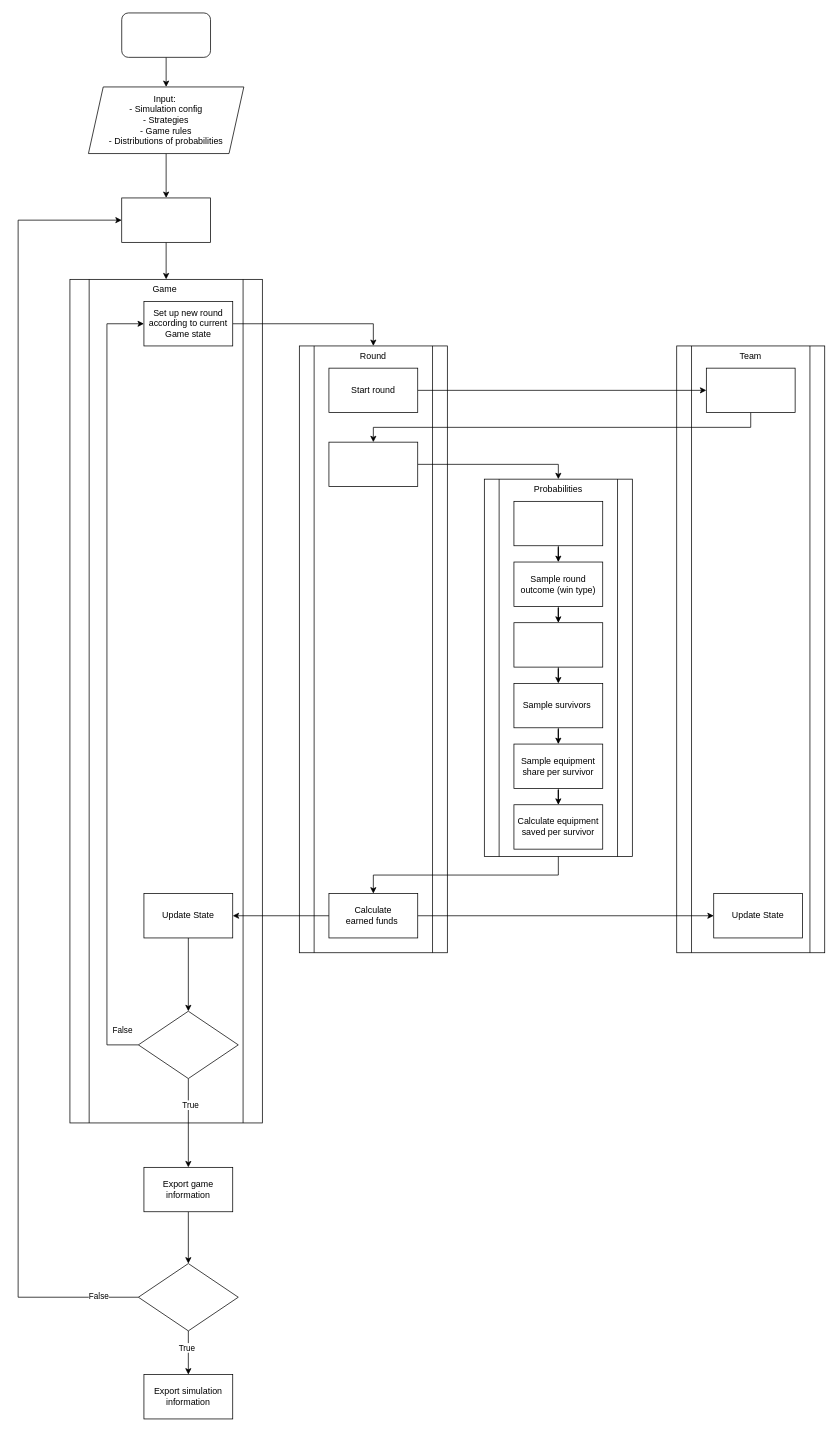
The diagram is 838 pixels wide and 1432 high, and some of its shapes have lost their labels. The centre of each missing label's shape, as x and y in pixels:
All simulations finished?: (x=188, y=1297)
Determine winner based on CSF: (x=558, y=523)
Evaluate round outcome: (x=373, y=464)
Investment decision: (x=750, y=390)
Is game finished?: (x=188, y=1044)
Sample bomb plant: (x=558, y=644)
Set up Game according to Game rules: (x=166, y=219)
Start: (x=166, y=34)
